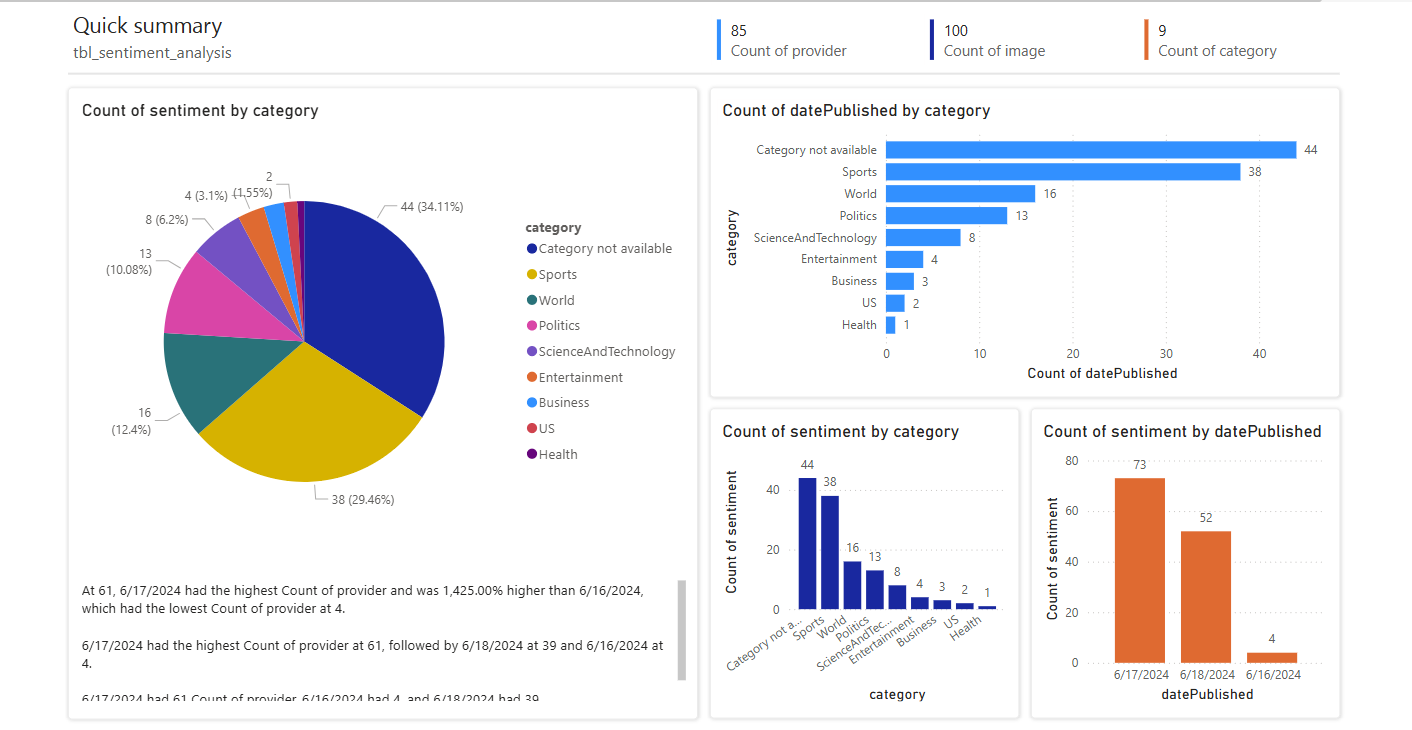

This screenshot's page, from the dashboard's own definition file:
{"tool":"powerbi","page":{"name":"Page 1","canvas":[1280,720],"ordinal":0},"visuals":[{"type":"shape","box":[12,58,1256,26],"z":0},{"type":"shape","box":[12,84,622,624],"z":1000},{"type":"shape","box":[646,84,622,306],"z":2000},{"type":"shape","box":[646,402,305,306],"z":3000},{"type":"shape","box":[963,402,305,306],"z":4000},{"type":"clusteredColumnChart","fields":{"Category":["tbl_sentiment_analysis.datePublished"],"Y":["CountNonNull(tbl_sentiment_analysis.sentiment)"]},"box":[971,414,289,282],"z":5000},{"type":"clusteredColumnChart","fields":{"Y":["CountNonNull(tbl_sentiment_analysis.sentiment)"],"Category":["tbl_sentiment_analysis.category"]},"box":[654,414,289,282],"z":6000},{"type":"clusteredBarChart","fields":{"Y":["CountNonNull(tbl_sentiment_analysis.datePublished)"],"Category":["tbl_sentiment_analysis.category"]},"box":[654,96,606,282],"z":7000},{"type":"textbox","box":[20,566,606,129],"z":8000},{"type":"pieChart","fields":{"Y":["CountNonNull(tbl_sentiment_analysis.sentiment)"],"Category":["tbl_sentiment_analysis.category"]},"box":[20,96,606,458],"z":9000},{"type":"multiRowCard","fields":{"Values":["Count(tbl_sentiment_analysis.category)"]},"box":[1069,12,199,50],"z":10000},{"type":"multiRowCard","fields":{"Values":["Count(tbl_sentiment_analysis.image)"]},"box":[858,12,199,50],"z":11000},{"type":"multiRowCard","fields":{"Values":["Count(tbl_sentiment_analysis.provider)"]},"box":[647,12,199,50],"z":12000},{"type":"textbox","box":[12,33,306,32],"z":13000},{"type":"textbox","box":[12,2,306,39],"z":14000}]}

Visuals, with their boxes on the page's 1280x720 design canvas (x1, y1, x2, y2). These are canvas units, not pixel positions in the 1412x730 screenshot, which may show the page scaled, cropped or inside an application window:
shape: [left=12, top=58, right=1268, bottom=84]
shape: [left=12, top=84, right=634, bottom=708]
shape: [left=646, top=84, right=1268, bottom=390]
shape: [left=646, top=402, right=951, bottom=708]
shape: [left=963, top=402, right=1268, bottom=708]
clusteredColumnChart - tbl_sentiment_analysis.datePublished x CountNonNull(tbl_sentiment_analysis.sentiment): [left=971, top=414, right=1260, bottom=696]
clusteredColumnChart - CountNonNull(tbl_sentiment_analysis.sentiment) x tbl_sentiment_analysis.category: [left=654, top=414, right=943, bottom=696]
clusteredBarChart - CountNonNull(tbl_sentiment_analysis.datePublished) x tbl_sentiment_analysis.category: [left=654, top=96, right=1260, bottom=378]
textbox: [left=20, top=566, right=626, bottom=695]
pieChart - CountNonNull(tbl_sentiment_analysis.sentiment) x tbl_sentiment_analysis.category: [left=20, top=96, right=626, bottom=554]
multiRowCard - Count(tbl_sentiment_analysis.category): [left=1069, top=12, right=1268, bottom=62]
multiRowCard - Count(tbl_sentiment_analysis.image): [left=858, top=12, right=1057, bottom=62]
multiRowCard - Count(tbl_sentiment_analysis.provider): [left=647, top=12, right=846, bottom=62]
textbox: [left=12, top=33, right=318, bottom=65]
textbox: [left=12, top=2, right=318, bottom=41]
